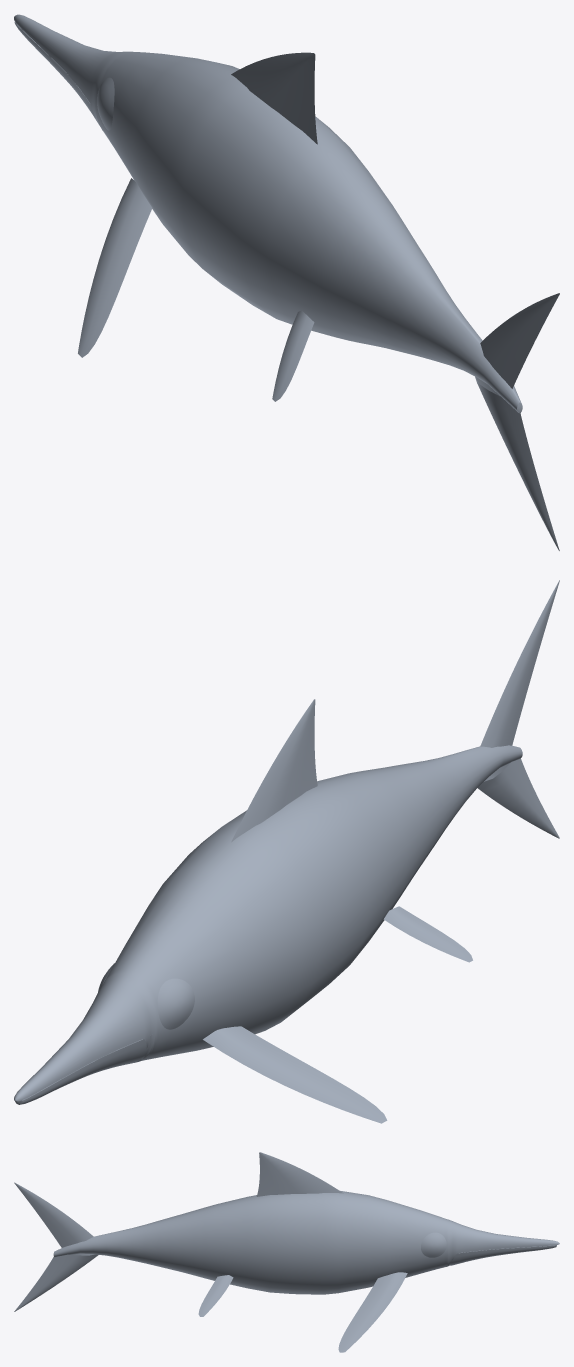
The model's file is ichthyosaur_game.glb.
3 views of the same model, one above another, from view 1: azimuth 30°, elevation 25°; view 2: azimuth 150°, elevation 25°; view 3: azimuth 270°, elevation 25° (orthographic). The views are drawn at different scales.
Parts seen in each view (by area): view 1: ichthyosaur_game; view 2: ichthyosaur_game; view 3: ichthyosaur_game.
Boxes of the visible parts, x1,y1,x2,y2 form: ichthyosaur_game: (14,14,559,550); ichthyosaur_game: (14,580,559,1123); ichthyosaur_game: (14,1152,559,1352).
Bounding box in the file's own units: 1.29 × 1.32 × 4.
